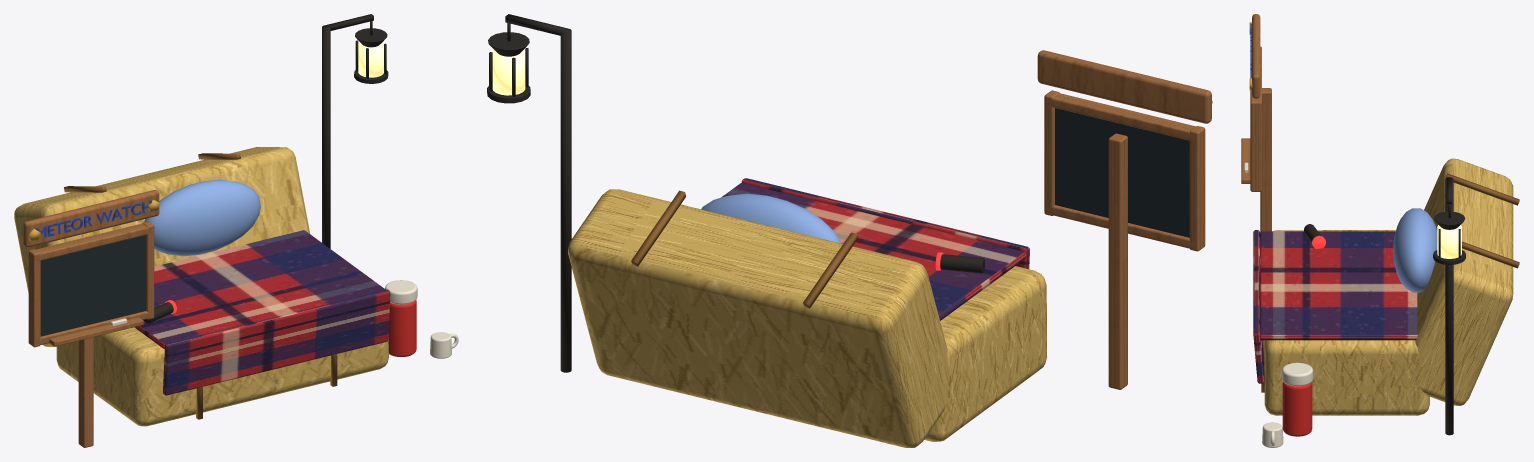
The model's file is meteorwatch.glb.
3 views of the same model, side by side, from view 1: azimuth 30°, elevation 25°; view 2: azimuth 150°, elevation 25°; view 3: azimuth 270°, elevation 25° (orthographic). The views are drawn at different scales.
Parts seen in each view (by area): view 1: mw_blanket, mw_bale, mw_fold, mw_back, mw_slate, mw_pillowo, mw_sign, mw_hook, mw_stake, mw_thermos, mw_frame.001, mw_frame.002 (+8 smaller); view 2: mw_back, mw_bale, mw_slate, mw_blanket, mw_sign, mw_stake, mw_hook, mw_pillowo, mw_frame.001, mw_frame.002, mw_fold, mw_frame (+6 smaller); view 3: mw_blanket, mw_back, mw_bale, mw_pillowo, mw_hook, mw_thermos, mw_stake, mw_fold, mw_frame.003, mw_sign, mw_lamp, mw_thcap (+5 smaller).
Part boxes in pixels (box(x1,y1,x2,y2)): mw_blanket: box(134, 230, 385, 349); mw_bale: box(56, 327, 388, 426); mw_fold: box(163, 289, 390, 395); mw_back: box(14, 147, 309, 346); mw_slate: box(40, 235, 145, 336); mw_pillowo: box(144, 179, 260, 256); mw_sign: box(23, 190, 159, 247); mw_hook: box(322, 26, 330, 248); mw_stake: box(78, 337, 93, 447); mw_thermos: box(388, 300, 416, 356); mw_frame.001: box(36, 223, 152, 260); mw_frame.002: box(28, 249, 40, 347); mw_back: box(568, 189, 948, 447); mw_bale: box(924, 266, 1046, 441); mw_slate: box(1055, 108, 1189, 237); mw_blanket: box(721, 183, 1025, 320); mw_sign: box(1037, 50, 1211, 123); mw_stake: box(1108, 133, 1127, 389); mw_hook: box(560, 29, 571, 372); mw_pillowo: box(701, 193, 841, 243); mw_frame.001: box(1046, 93, 1195, 140); mw_frame.002: box(1189, 126, 1205, 251); mw_fold: box(741, 178, 1029, 268); mw_frame: box(1046, 205, 1195, 248); mw_blanket: box(1260, 231, 1417, 340); mw_back: box(1410, 158, 1513, 405); mw_bale: box(1264, 230, 1429, 415); mw_pillowo: box(1393, 208, 1437, 292); mw_hook: box(1445, 177, 1453, 435); mw_thermos: box(1282, 382, 1312, 436); mw_stake: box(1260, 88, 1271, 231); mw_fold: box(1253, 230, 1263, 383); mw_frame.003: box(1250, 99, 1261, 191); mw_sign: box(1252, 14, 1260, 98); mw_lamp: box(1437, 225, 1461, 258); mw_thcap: box(1282, 362, 1313, 386).
Size of the model in its own units: 3.1 by 1.71 by 1.68.
Materials: 13 (3 with a texture image).
